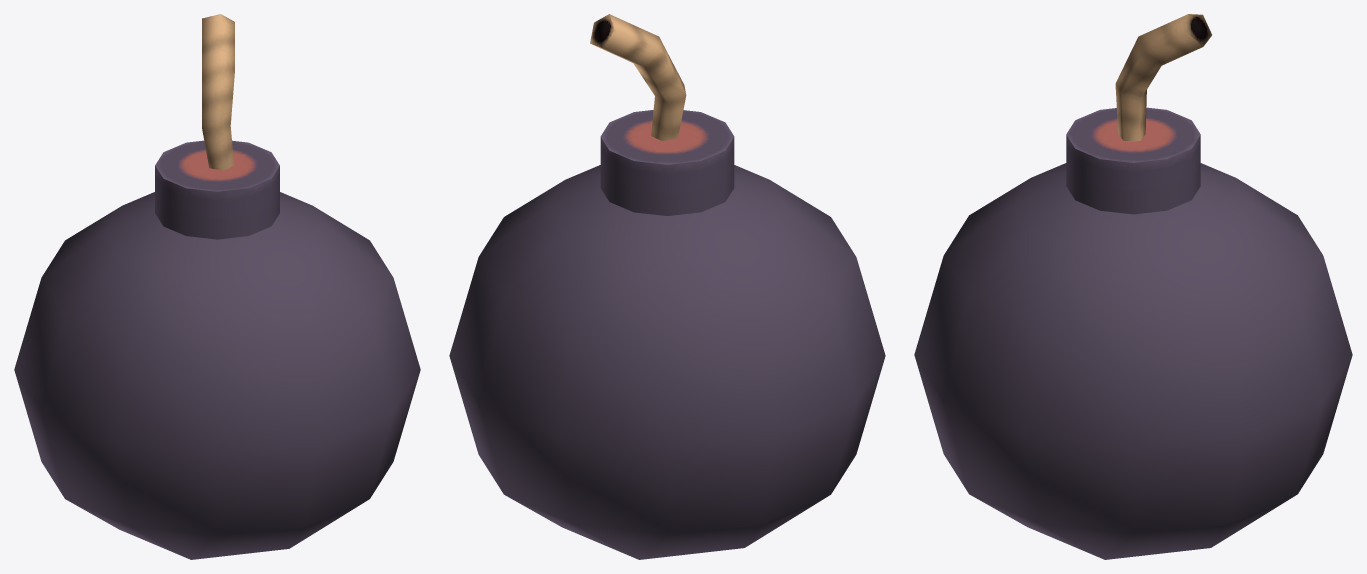
Rendered from SM_TL_Bomb.glb.
The picture shows the model from 3 angles, left to right: view 1: azimuth 30°, elevation 25°; view 2: azimuth 150°, elevation 25°; view 3: azimuth 270°, elevation 25°; orthographic projection. The views are drawn at different scales.
Parts seen in each view (by area): view 1: SM_TL_Bomb; view 2: SM_TL_Bomb; view 3: SM_TL_Bomb.
Boxes of the visible parts, <box> form: SM_TL_Bomb: <box>14,14,420,559</box>; SM_TL_Bomb: <box>449,14,885,559</box>; SM_TL_Bomb: <box>914,14,1352,559</box>.
Size of the model in its own units: 0.2975 by 0.4066 by 0.2975.
Materials: 1 (1 with a texture image).
